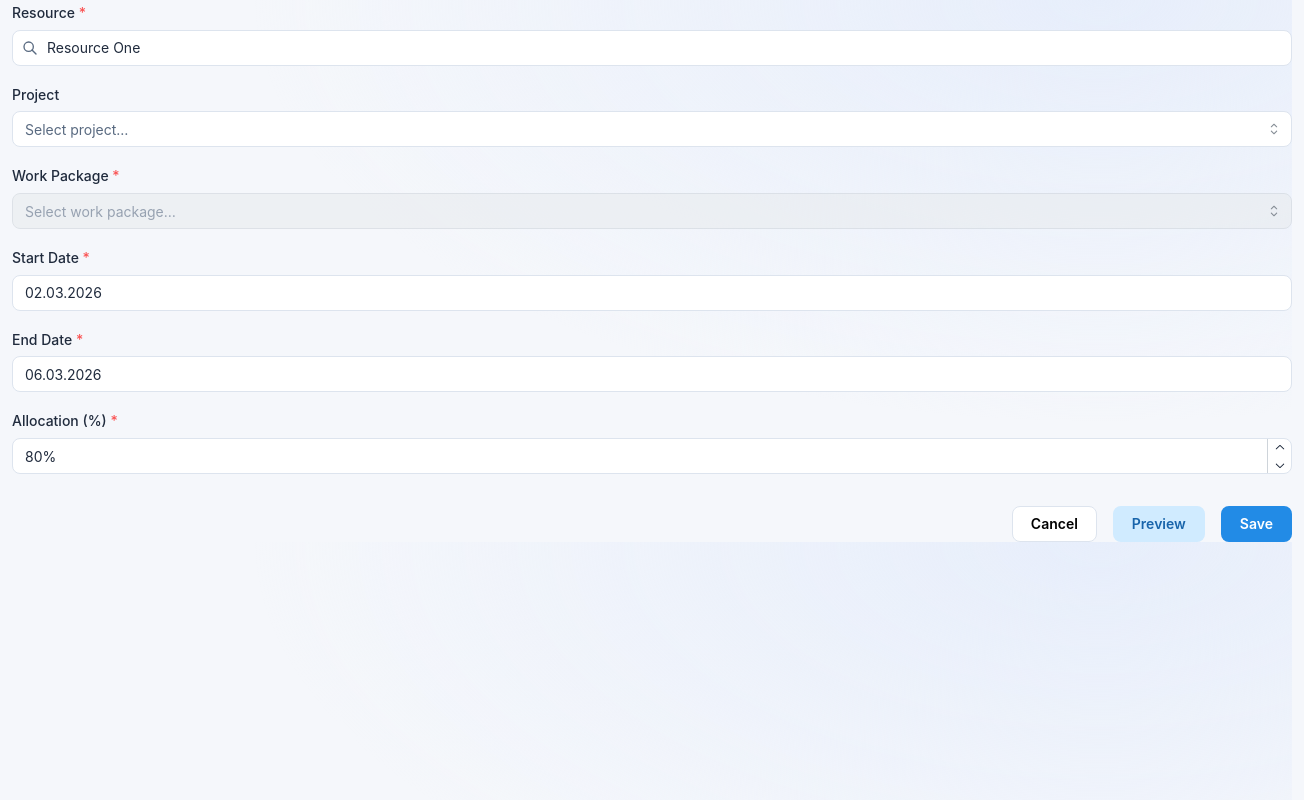
Test: AssignmentForm — personal date range › blocks submission when the end date precedes the start date
The width and height of the screenshot is (1304, 800).
Expected: the field labelled "Start Date *" holds "02.03.2026", 12,275 -> 1292,311
Replace the text in the field labelled "End Date *" with "01.03.2026": (652, 374) 12,356 -> 1292,392
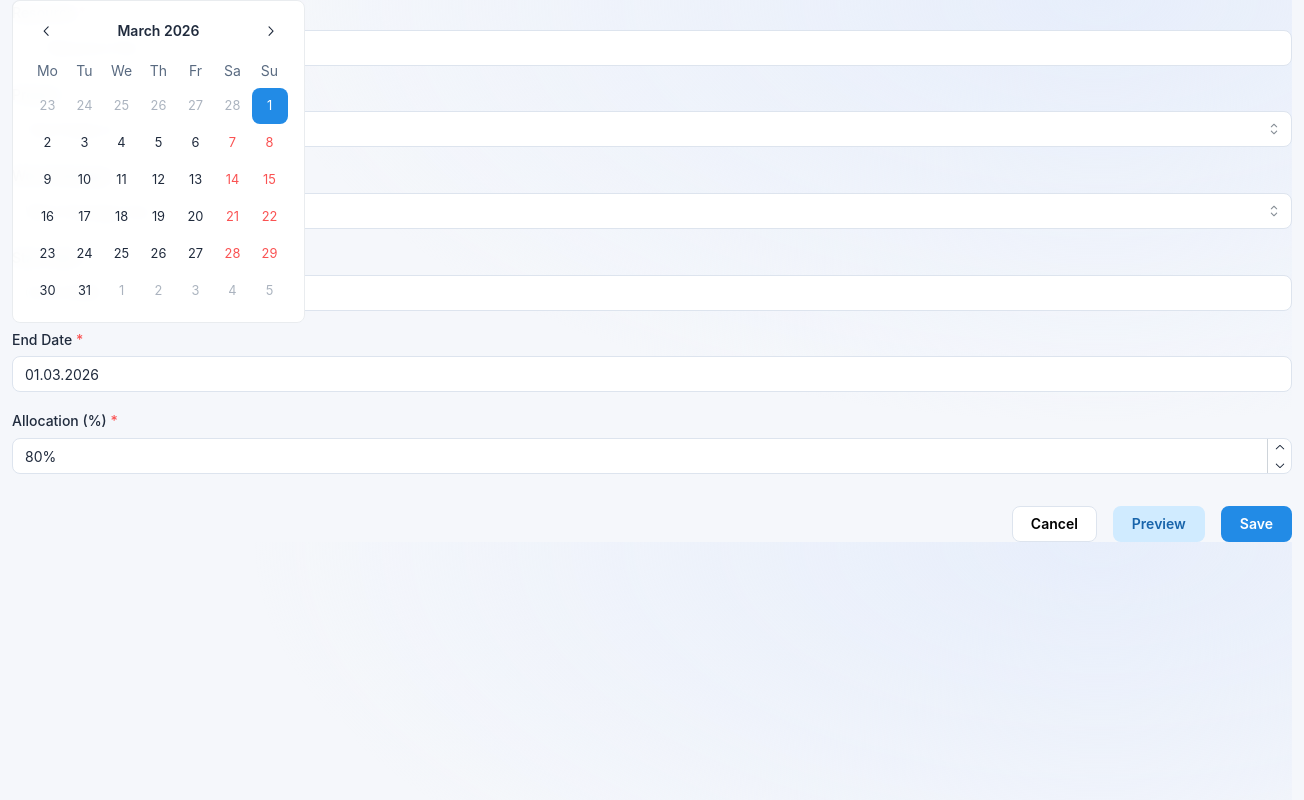
Click the button "Save": (1256, 524) 1221,506 -> 1292,542
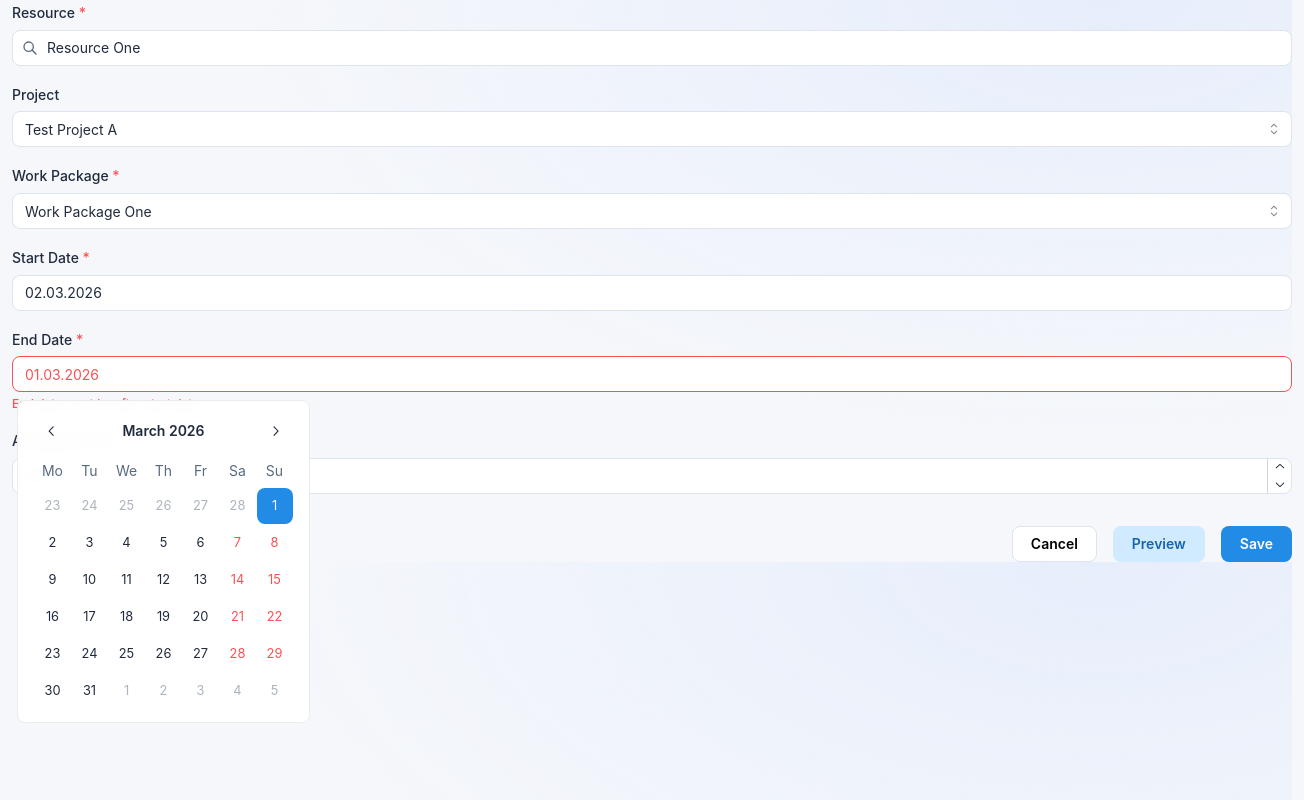
Expected: the text "End date must be after start date" is shown, 12,396 -> 199,411
